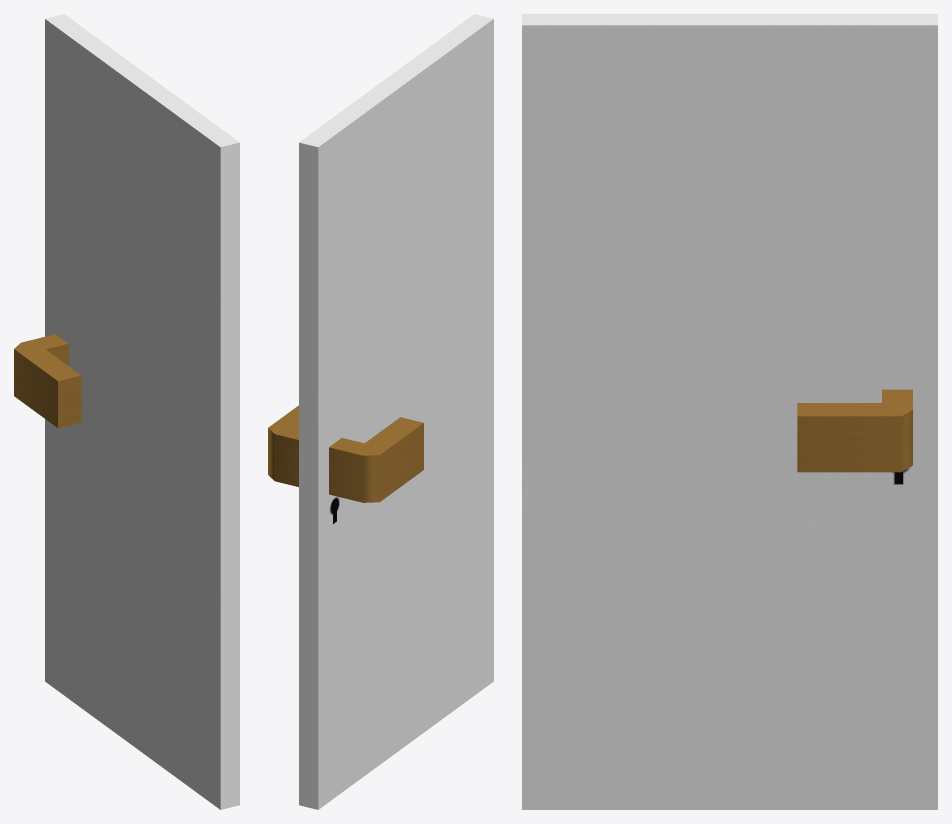
Rendered from door.fbx.
The picture shows the model from 3 angles, left to right: view 1: azimuth 30°, elevation 25°; view 2: azimuth 150°, elevation 25°; view 3: azimuth 270°, elevation 25°; orthographic projection. The views are drawn at different scales.
Visible parts, largest first — view 1: door; view 2: door; view 3: door.
Part boxes in pixels (x1=…): door: x1=14, y1=14, x2=239, y2=809; door: x1=268, y1=14, x2=493, y2=809; door: x1=522, y1=14, x2=937, y2=809.
Size of the model in its own units: 0.3501 by 1.98 by 0.9524.
